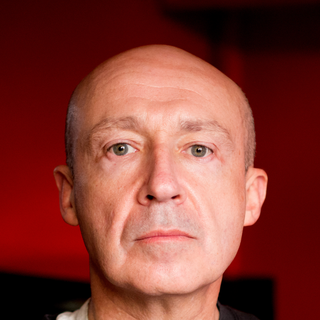eye: (178, 139, 222, 163), (99, 138, 143, 162)
